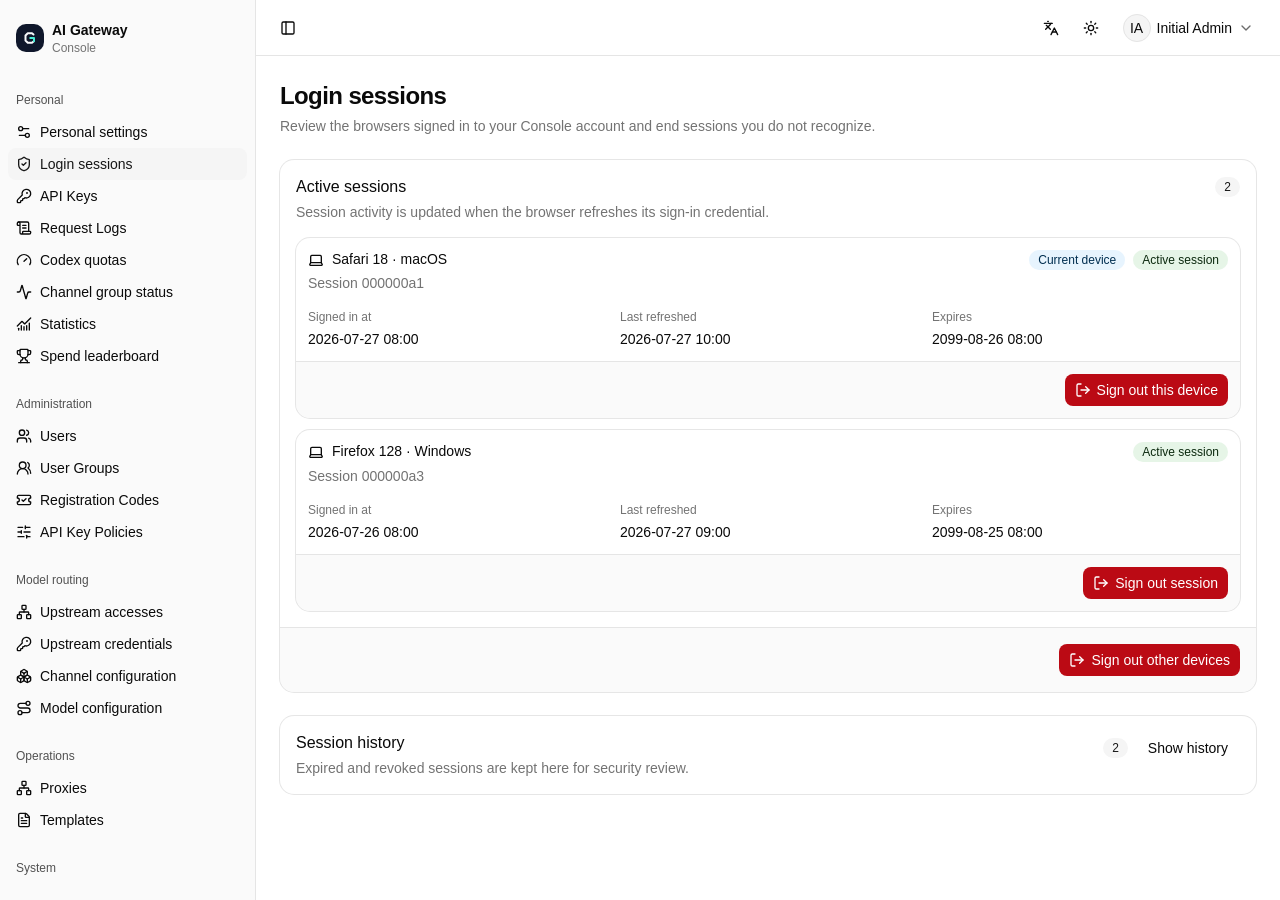
Scenario: SessionsPage › returns to sign in after revoking the current session
What coordinates should you click on to do the following:
click the button "Sign out this device"
I would click on:
 (1146, 390)
Its box is [1065,374,1228,406].
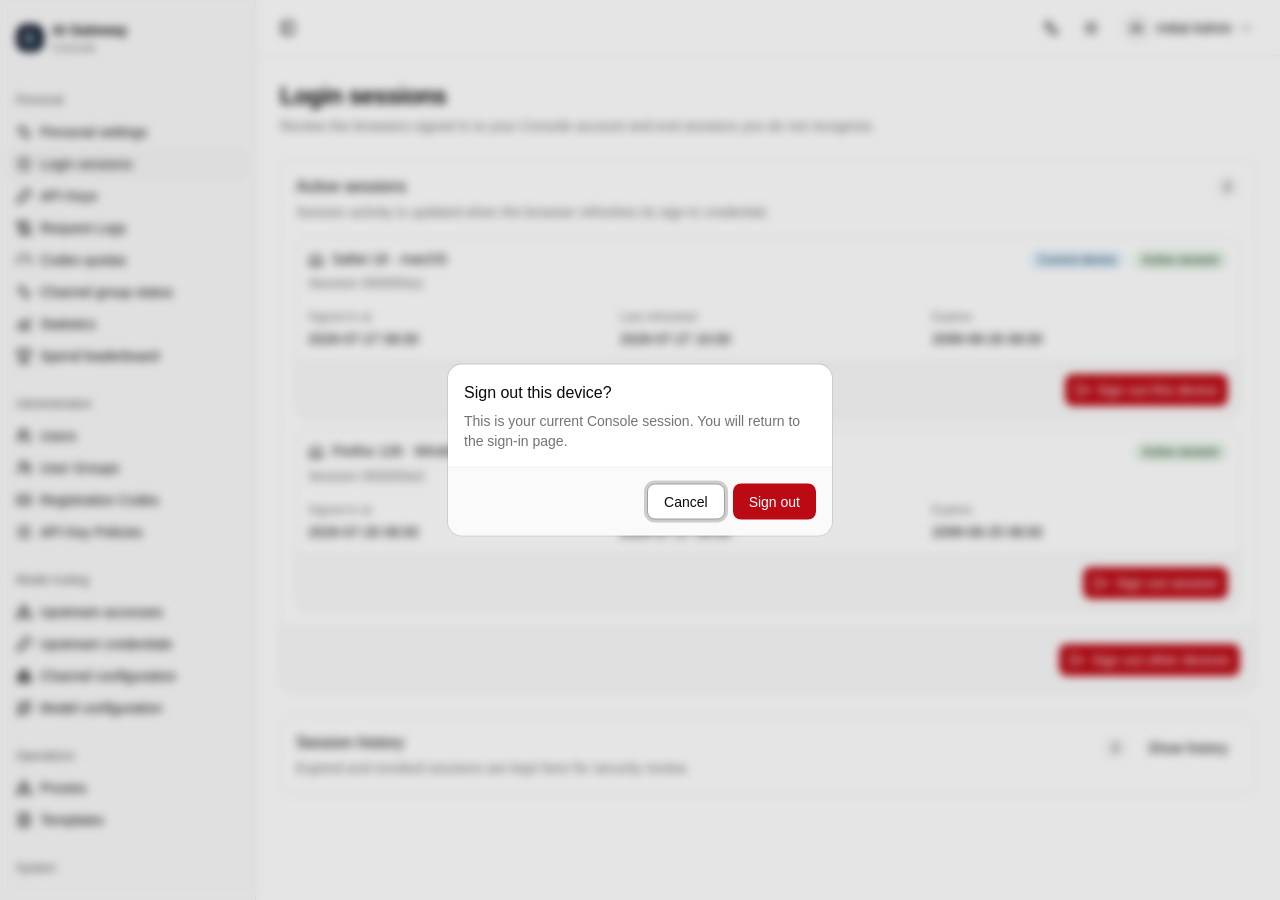
Expected: the text "current Console session" is shown, [464,412,800,448]
What coordinates should you click on to do the following:
click the button "Sign out"
I would click on:
 (774, 502)
Its box is [733,484,816,520].
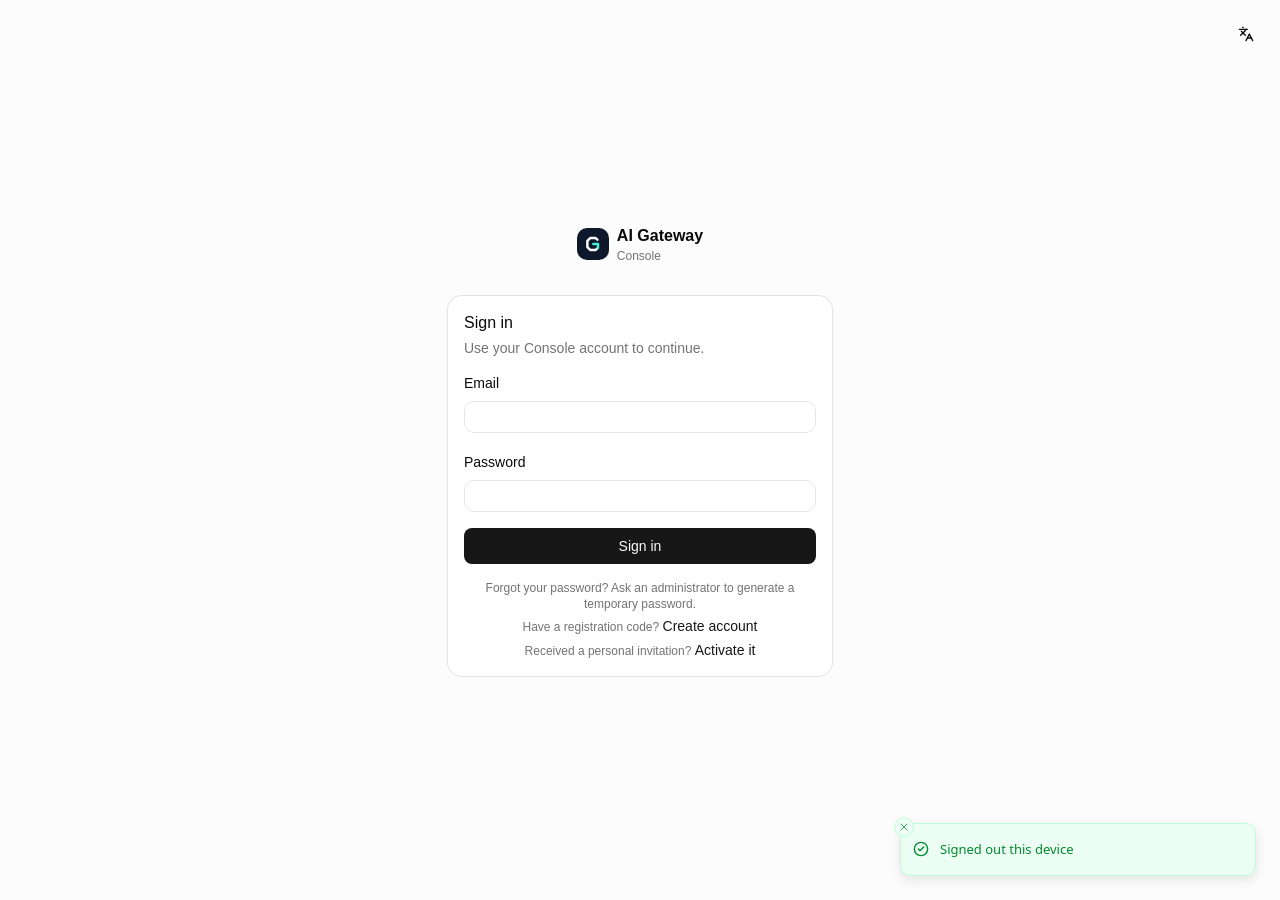
Expected: the button "Sign in" is shown, [464,528,816,564]
